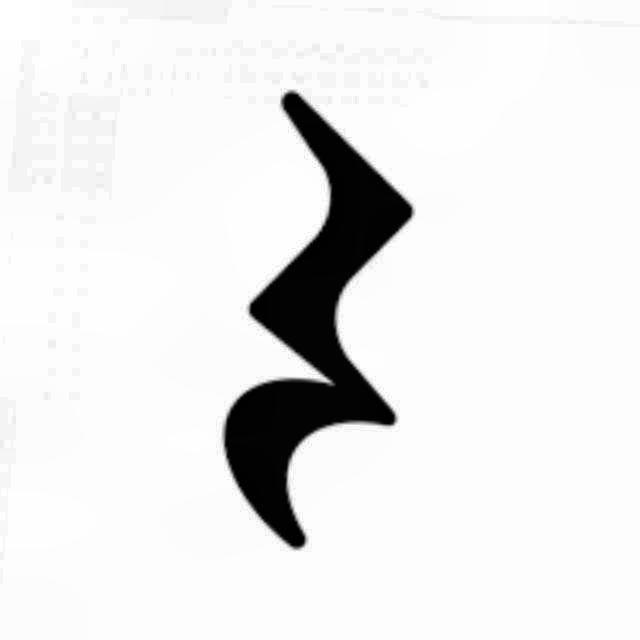Quarter-rest: (161, 75, 457, 578)
